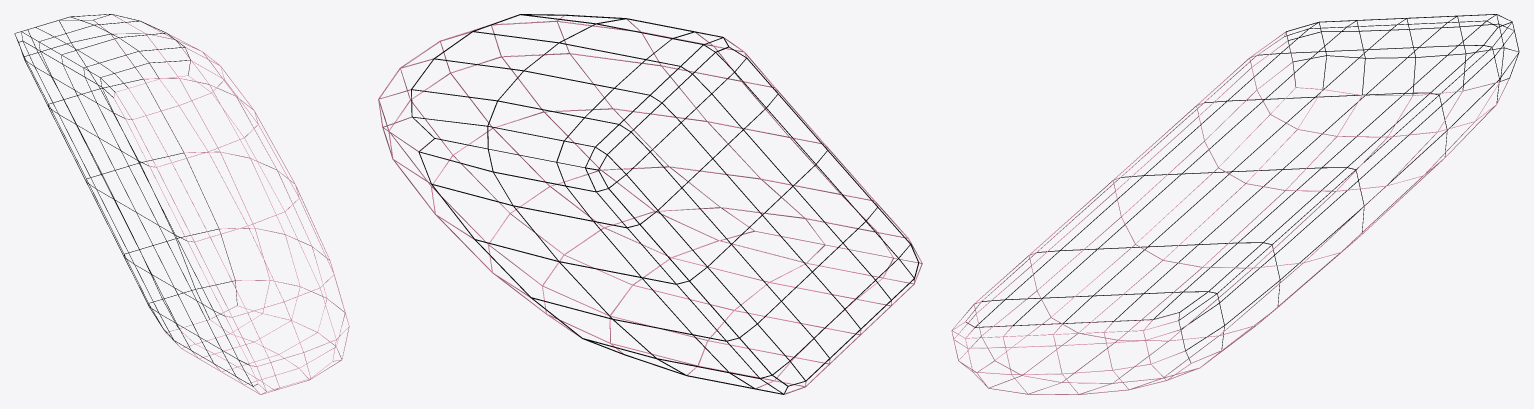
The picture shows the model from 3 angles, left to right: view 1: azimuth 30°, elevation 25°; view 2: azimuth 150°, elevation 25°; view 3: azimuth 270°, elevation 25°; orthographic projection. The views are drawn at different scales.
Visible parts, largest first — view 1: Box1214; view 2: Box1214; view 3: Box1214.
Part boxes in pixels (left/top/right/bottom): Box1214: left=14, top=14, right=349, bottom=394; Box1214: left=378, top=14, right=922, bottom=394; Box1214: left=951, top=14, right=1519, bottom=394.
Size of the model in its own units: 0.0281 by 0.0358 by 0.0615.
